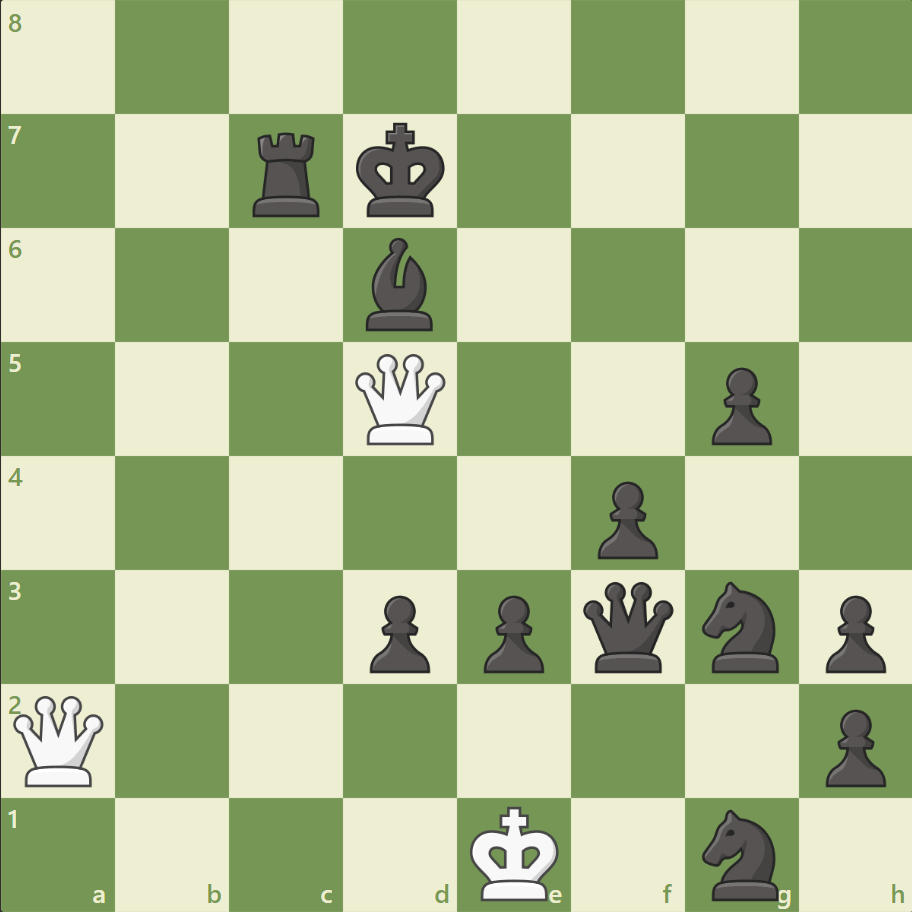K: (465, 798, 565, 906)
Q: (351, 349, 450, 449), (10, 690, 109, 789)
b: (358, 233, 442, 336)
k: (351, 117, 451, 225)
n: (692, 575, 789, 677), (692, 802, 789, 904)
p: (701, 359, 776, 450), (474, 586, 549, 677), (588, 473, 662, 564), (361, 586, 435, 677), (815, 586, 889, 677), (815, 700, 889, 791)
q: (578, 576, 677, 676)
r: (246, 125, 329, 222)
